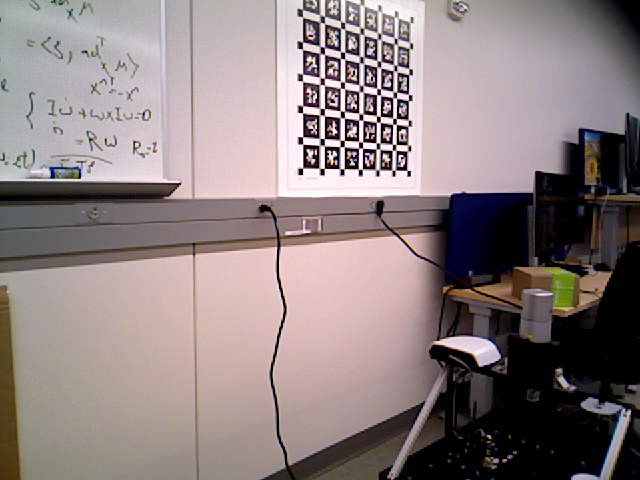painting4: (275, 1, 421, 192)
